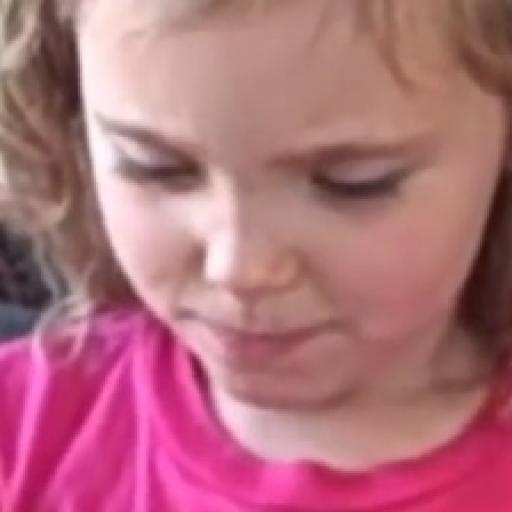Autism: (60, 4, 512, 446)
